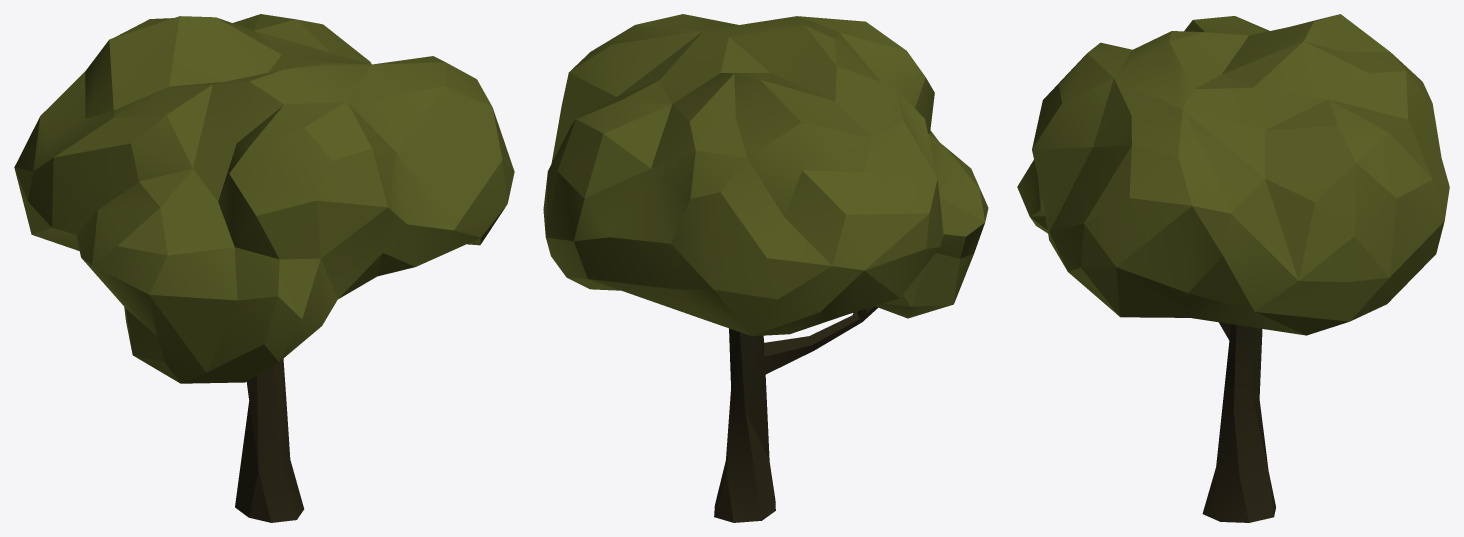
The model's file is OakB.fbx.
3 views of the same model, side by side, from view 1: azimuth 30°, elevation 25°; view 2: azimuth 150°, elevation 25°; view 3: azimuth 270°, elevation 25° (orthographic). The views are drawn at different scales.
Visible parts, largest first — view 1: OakB; view 2: OakB; view 3: OakB.
Boxes of the visible parts, x1=… form: OakB: x1=14, y1=14, x2=514, y2=522; OakB: x1=543, y1=14, x2=988, y2=522; OakB: x1=1017, y1=14, x2=1449, y2=522.
Size of the model in its own units: 1520 by 1695 by 1433.
